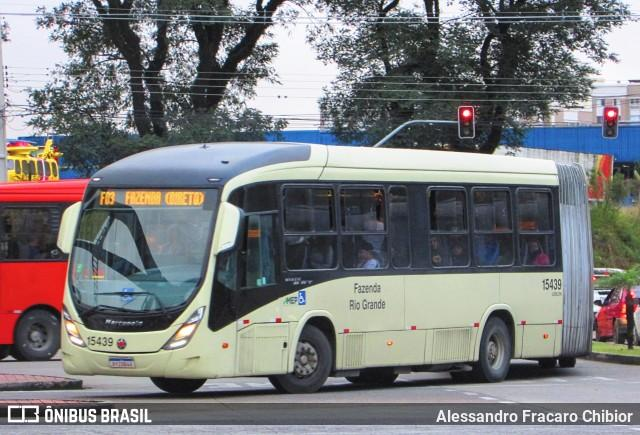FAZENDA: (121, 186, 165, 209)
